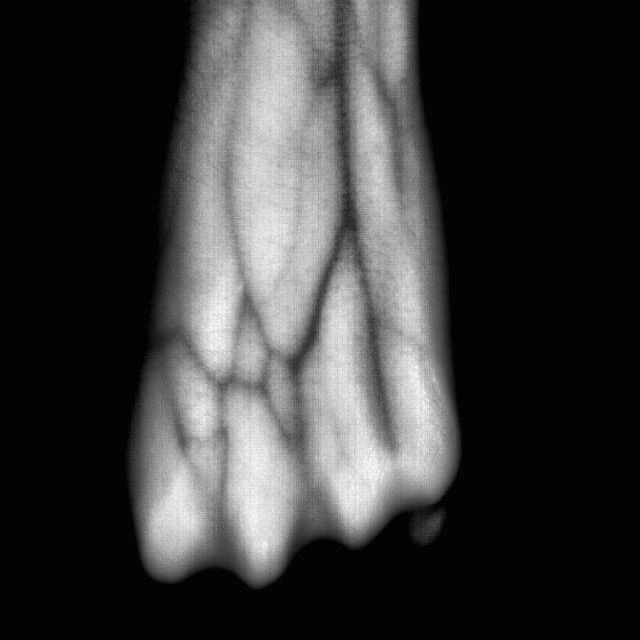Vein: (290, 80, 377, 371)
